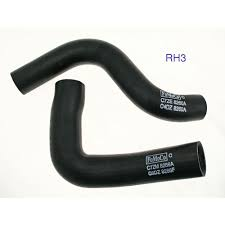radiator_hose: (49, 79, 206, 187), (11, 40, 209, 121)
